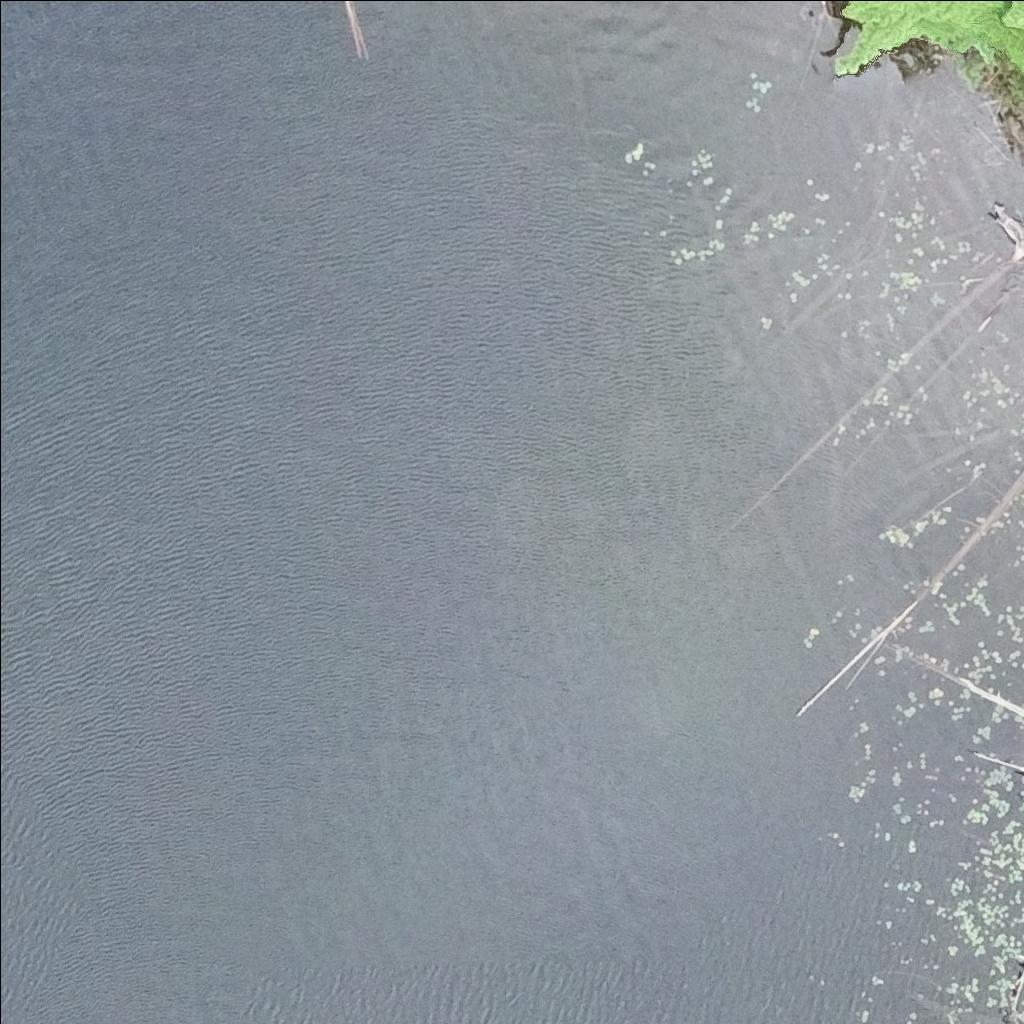crown: (826, 0, 1023, 77)
